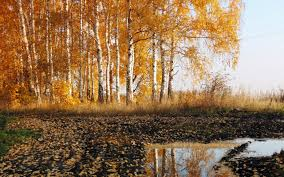forest: (4, 2, 222, 104)
ground: (8, 107, 282, 173)
